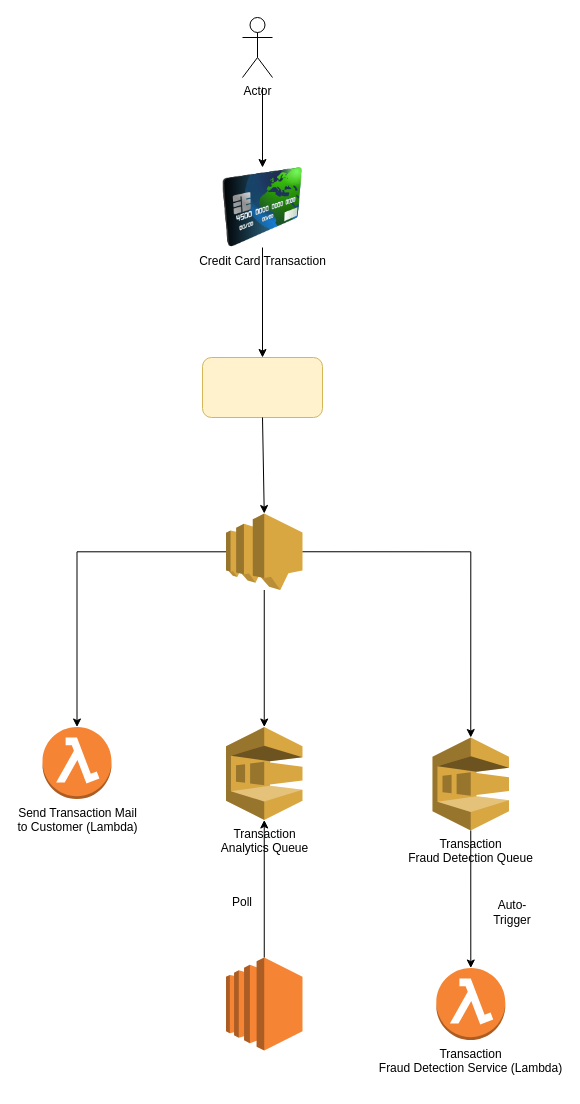
The diagram is 580 pixels wide and 1104 high, and some of its shapes have lost their labels. Each missing label, with the centre of its shape:
"Transaction Analytics Service (EC2)" belongs at point (263, 1003).
"Transaction Processing Service" belongs at point (262, 387).
"Transaction SNS Topic" belongs at point (263, 551).
